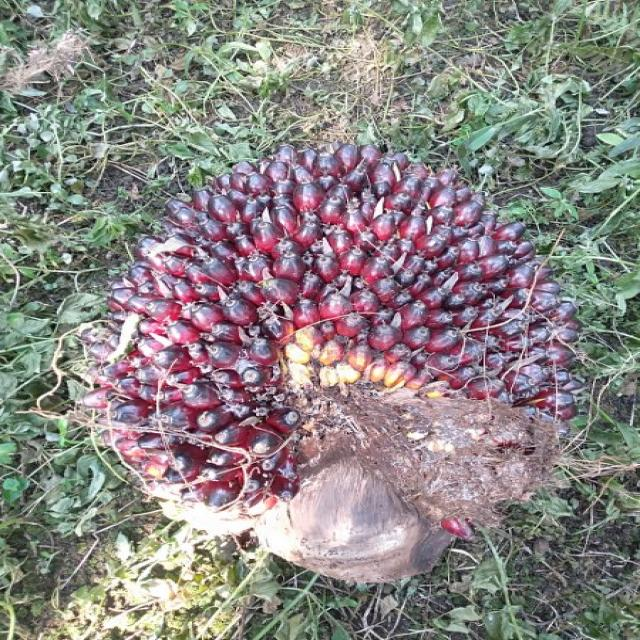fraksi 1: (44, 136, 599, 604)
